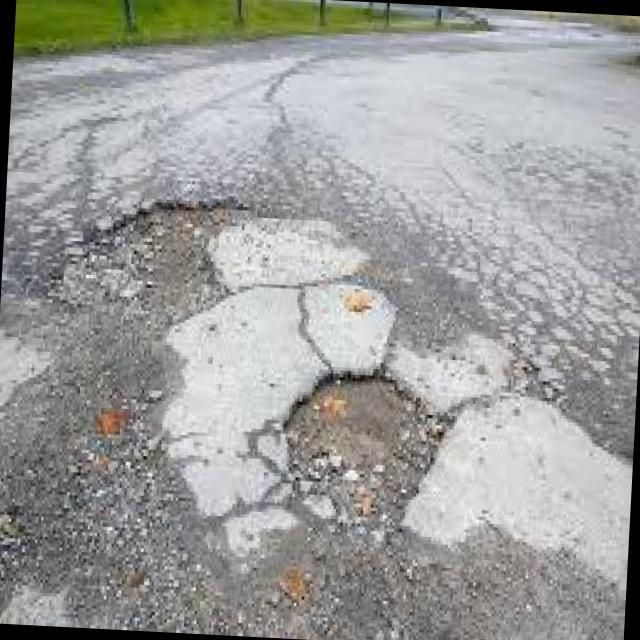Pothole: (86, 203, 230, 405), (289, 381, 436, 524)
